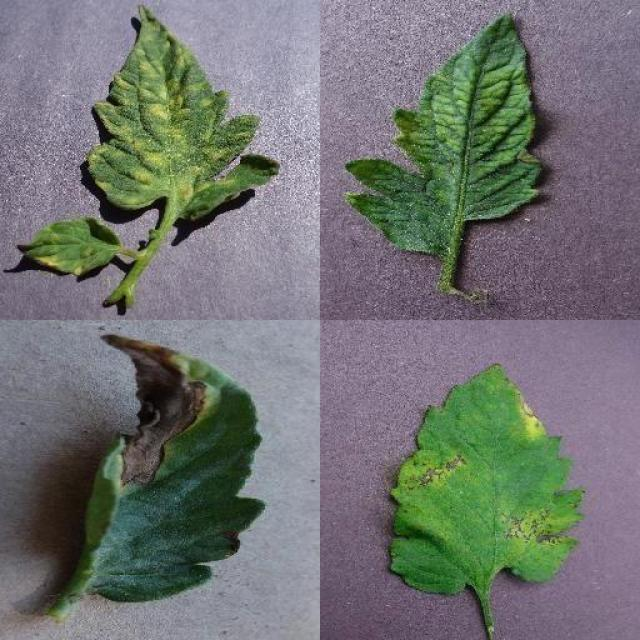Early Blight: (73, 329, 265, 599)
Septoria: (388, 360, 588, 594)
